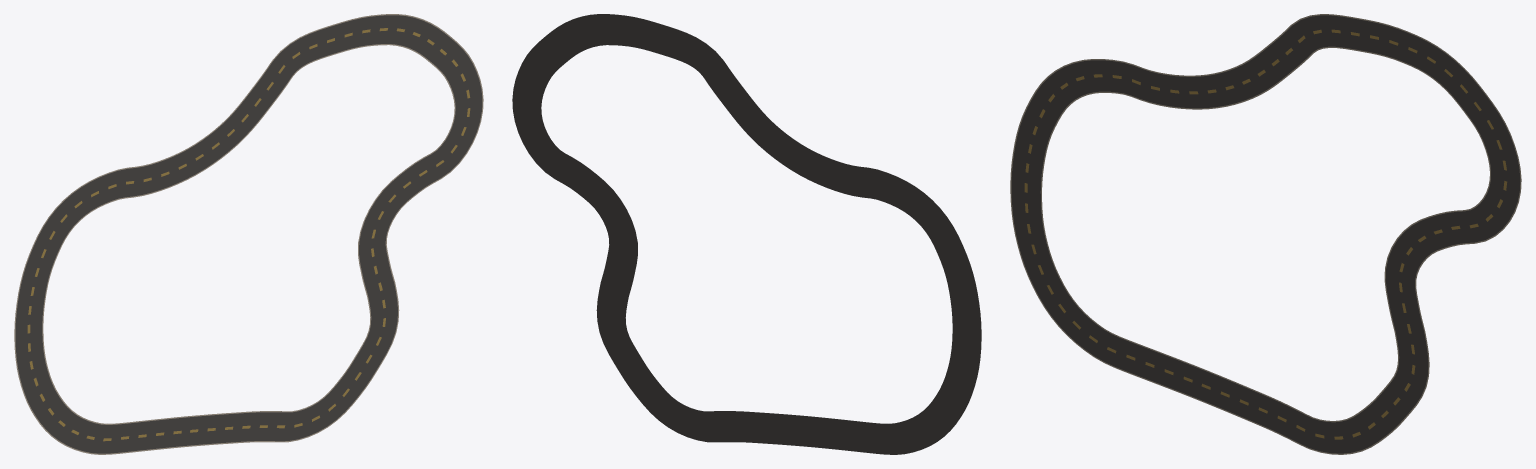
File: track.obj
The picture shows the model from 3 angles, left to right: view 1: azimuth 30°, elevation 25°; view 2: azimuth 150°, elevation 25°; view 3: azimuth 330°, elevation 25°; orthographic projection. The views are drawn at different scales.
Size of the model in its own units: 17.25 by 14.35 by 0.002.
